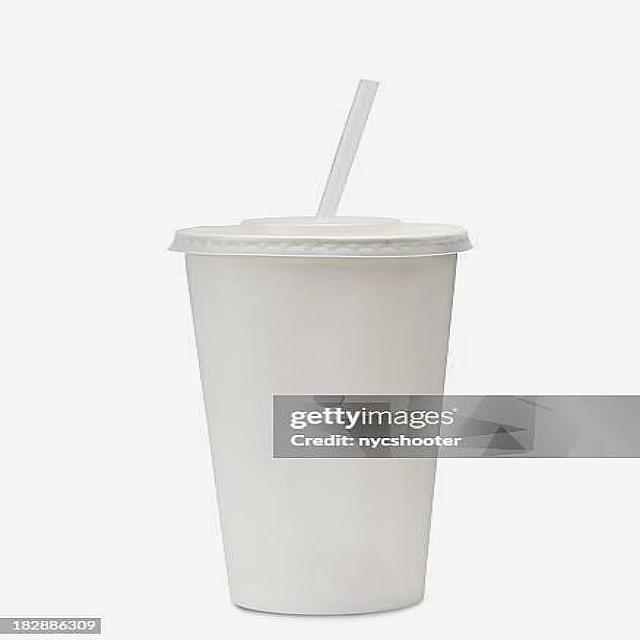paper_cup: (170, 206, 496, 620)
